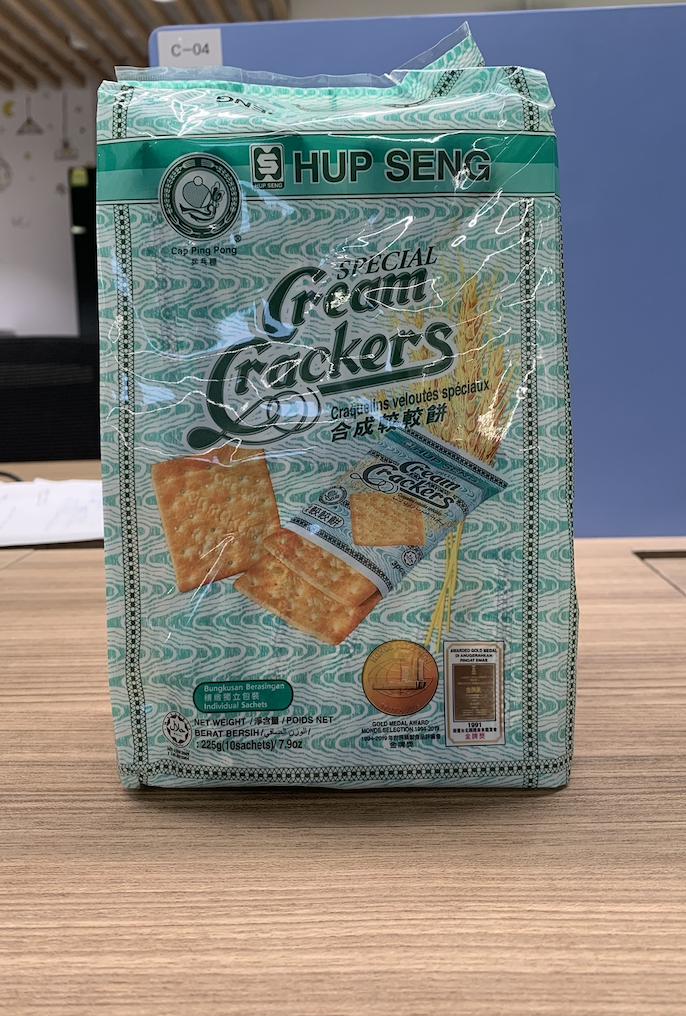halal: (168, 717, 189, 745)
